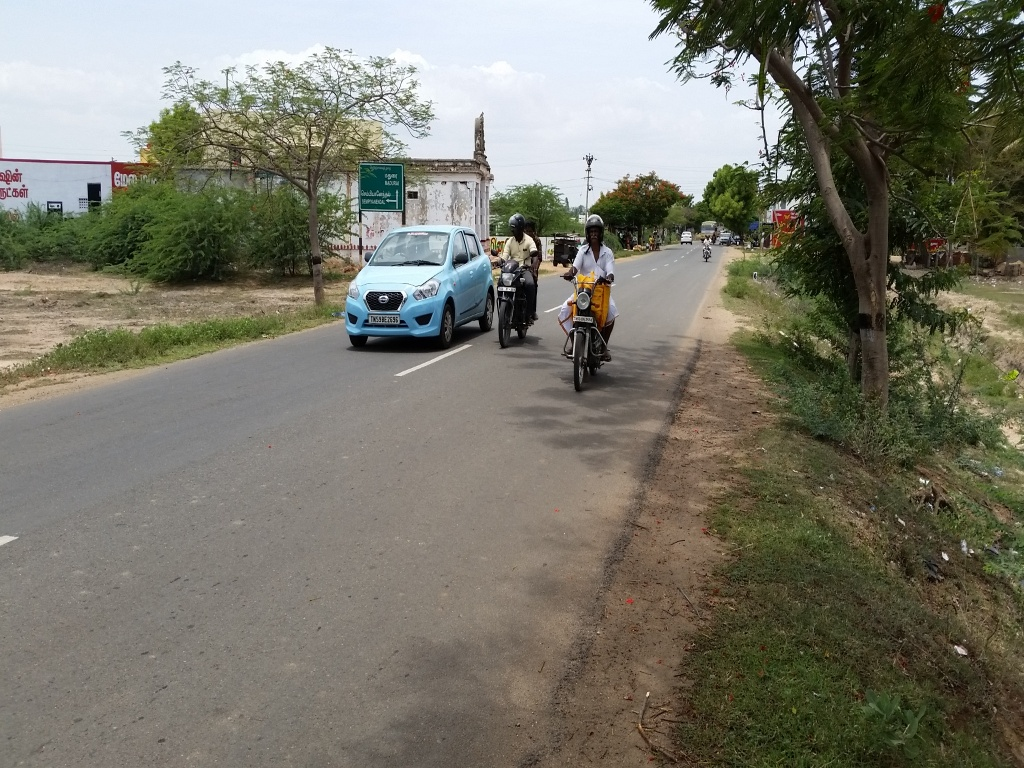biker: (547, 188, 644, 403), (477, 185, 548, 357)
helmet: (582, 207, 610, 255), (506, 207, 524, 242)
nohelmet: (524, 214, 540, 241)
